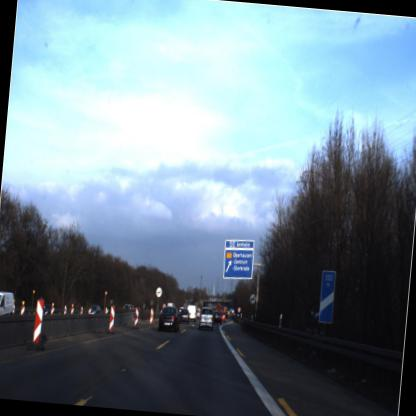other: (154, 282, 165, 304), (247, 292, 258, 308)
